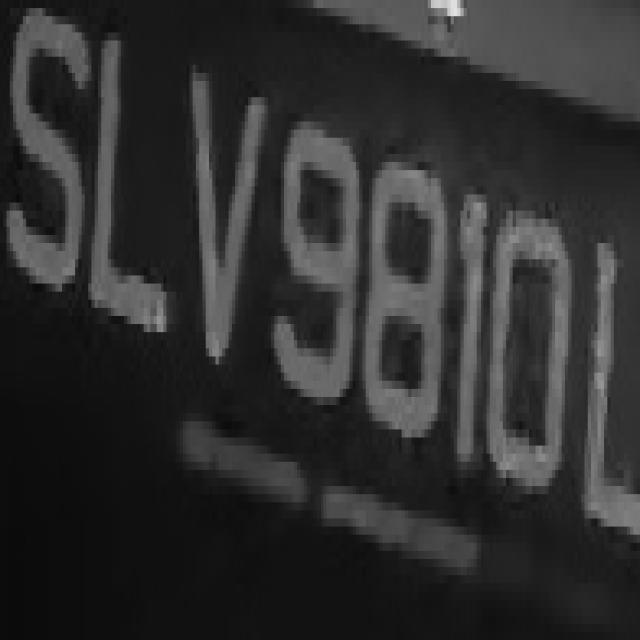0: (493, 162, 575, 527)
1: (444, 138, 490, 510)
8: (369, 105, 451, 478)
9: (271, 64, 362, 446)
L: (95, 32, 186, 364), (574, 170, 640, 567)
S: (7, 16, 88, 332)
V: (183, 24, 264, 422)
